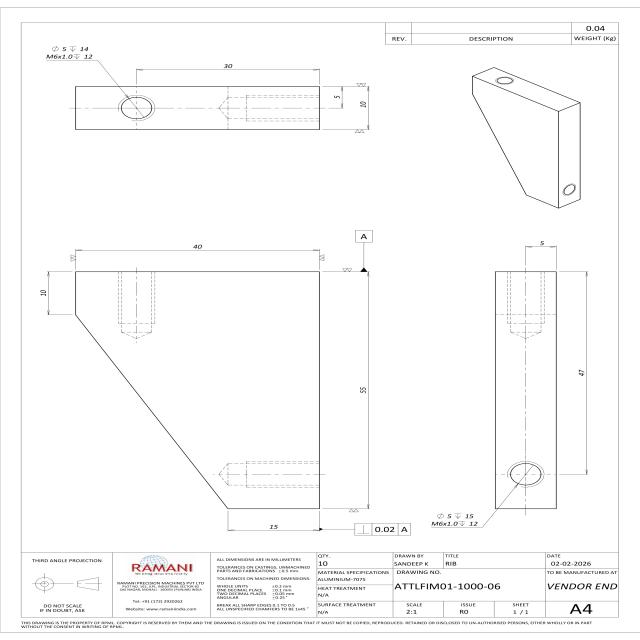dimension: (46, 44, 94, 61), (429, 512, 479, 528), (356, 98, 368, 110), (222, 61, 236, 70), (266, 523, 280, 531), (191, 243, 204, 251), (38, 288, 48, 298), (576, 368, 586, 378), (358, 386, 368, 395), (537, 239, 547, 247), (332, 93, 342, 100)
